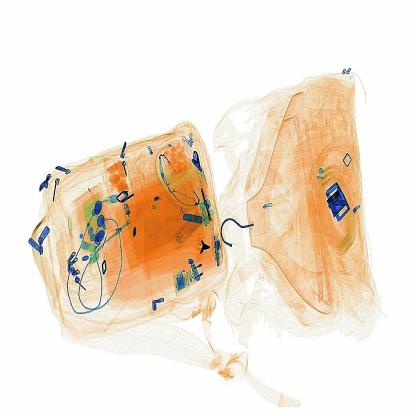gun: (186, 231, 220, 268)
